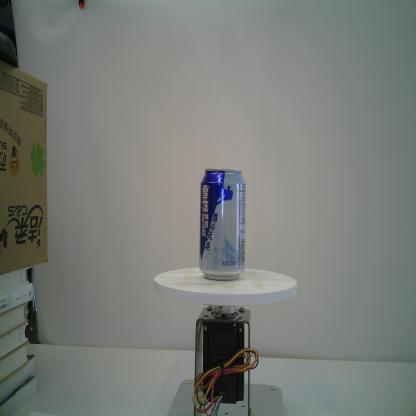Alcohol: (198, 167, 245, 280)
